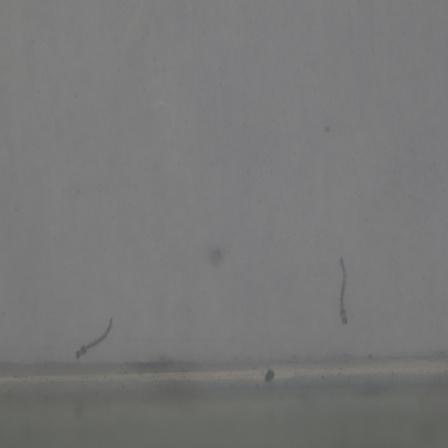Jentik-Nyamuk: (73, 314, 117, 363), (330, 253, 353, 334)
